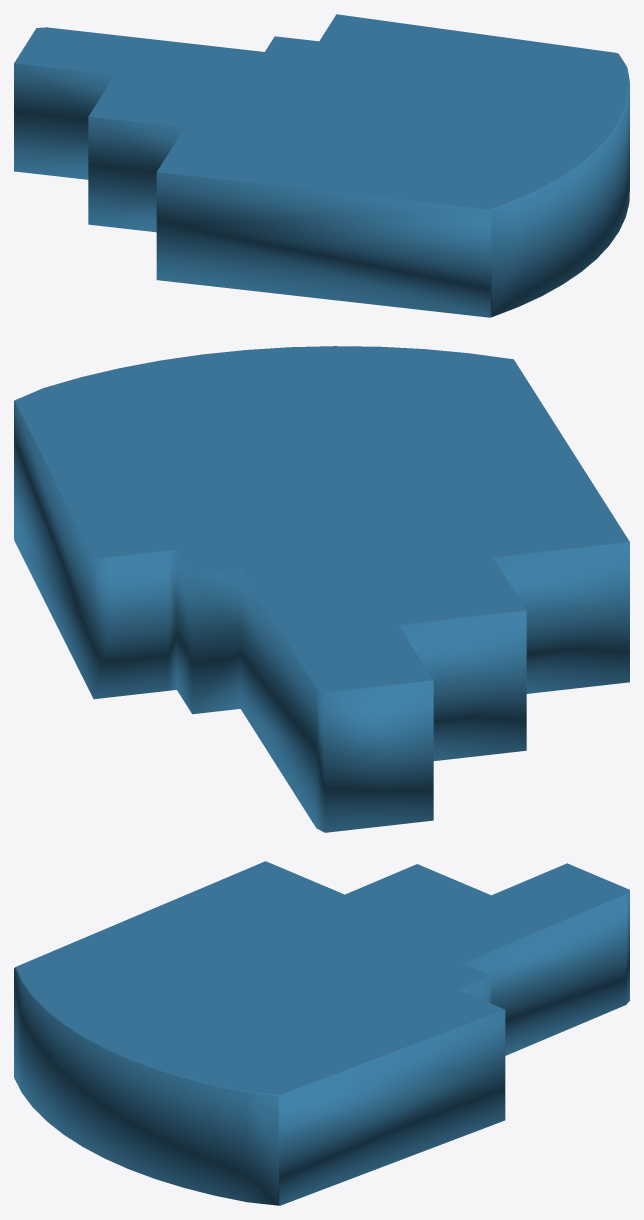
File: LinkedIn.gltf
3 renders of one model, top to bottom at view 1: azimuth 30°, elevation 25°; view 2: azimuth 150°, elevation 25°; view 3: azimuth 270°, elevation 25°, orthographic. The views are drawn at different scales.
Parts seen in each view (by area): view 1: Curve.004; view 2: Curve.004; view 3: Curve.004.
Boxes of the visible parts, x1,y1,x2,y2 form: Curve.004: (14, 14, 629, 317); Curve.004: (14, 346, 629, 832); Curve.004: (14, 861, 629, 1205).
Bounding box in the file's own units: 0.0907 × 0.02 × 0.1007.
